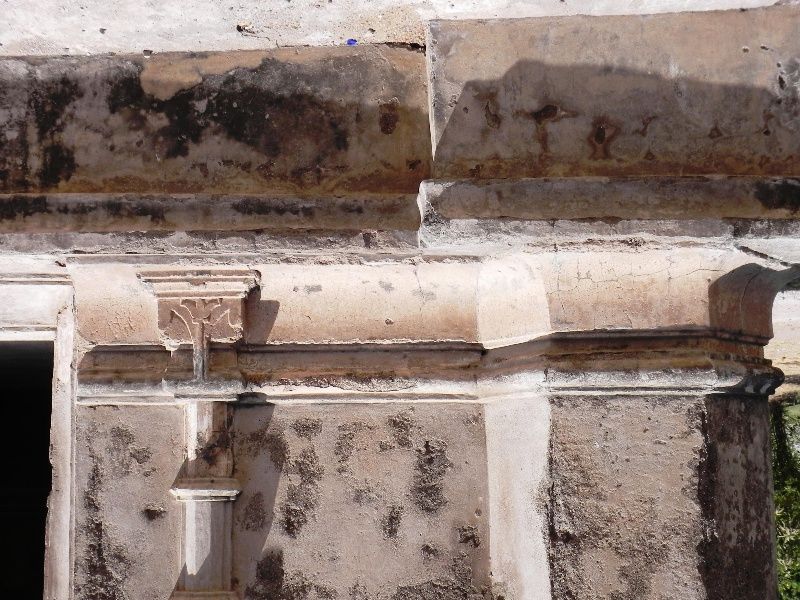Spalling: (409, 431, 457, 528), (359, 226, 386, 256)
